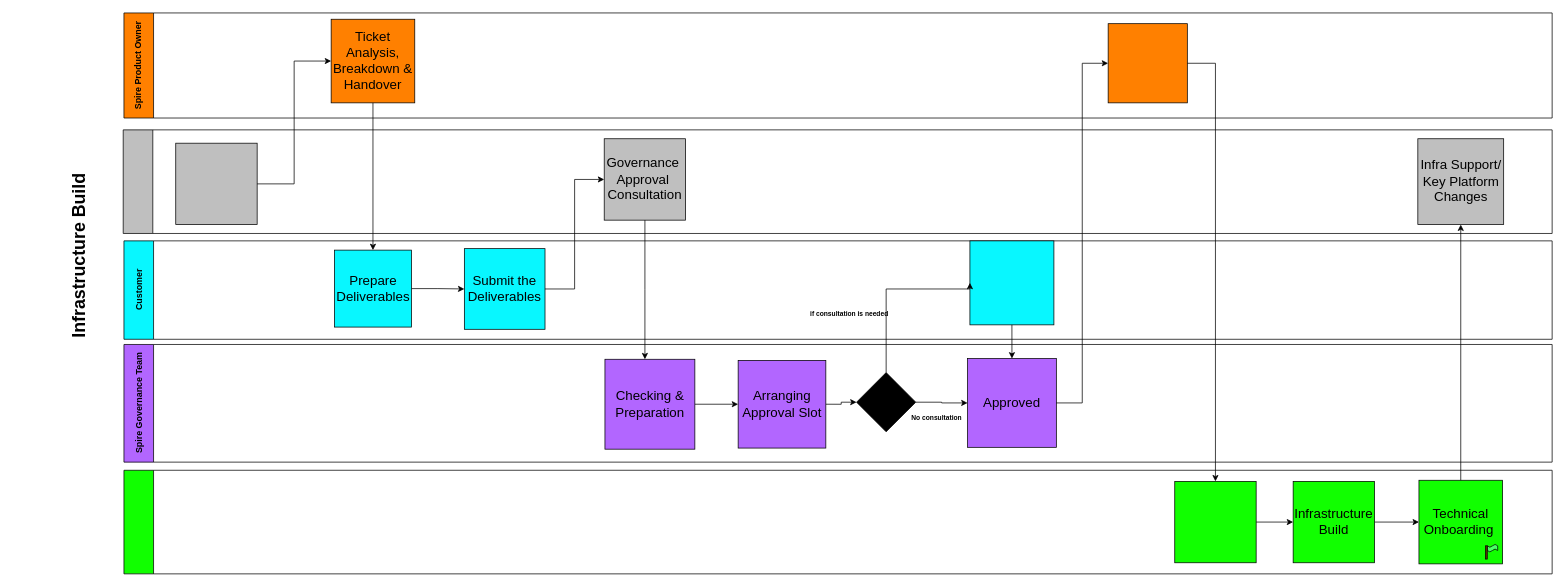
Some shapes in this 1565 by 587 pixel diagram are drawn without their labels. The box of each missing label's shape, as (x1, y1, x2, y2) in pixels:
Handover to Infra Team: (1107, 23, 1187, 103)
Infrastructure Being Established: (1174, 481, 1256, 563)
Participate Consultation: (969, 240, 1054, 325)
Raise Infrastructure Request: (175, 142, 257, 225)
Spire Infrastructure Team: (123, 470, 1552, 574)
Spire Service Desk: (122, 129, 1552, 233)
